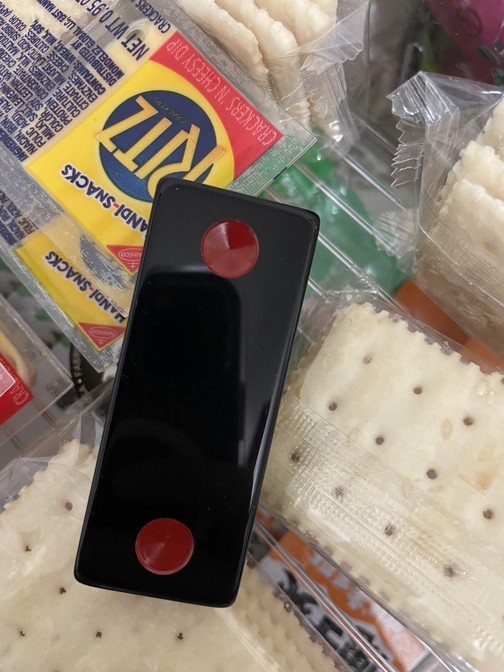earth: (75, 175, 320, 610)
